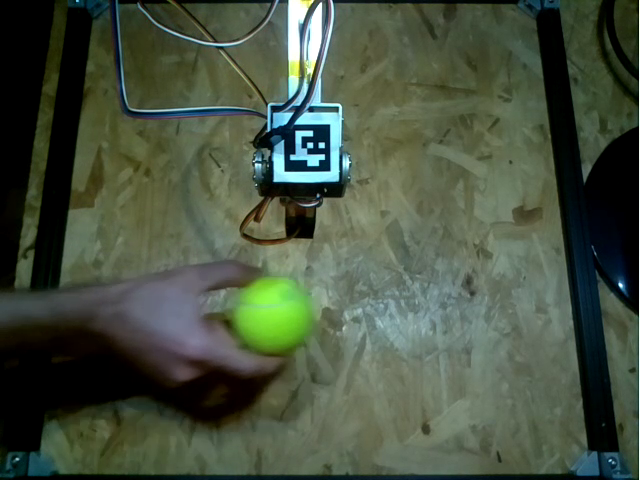tennis_ball: (231, 275, 315, 352)
